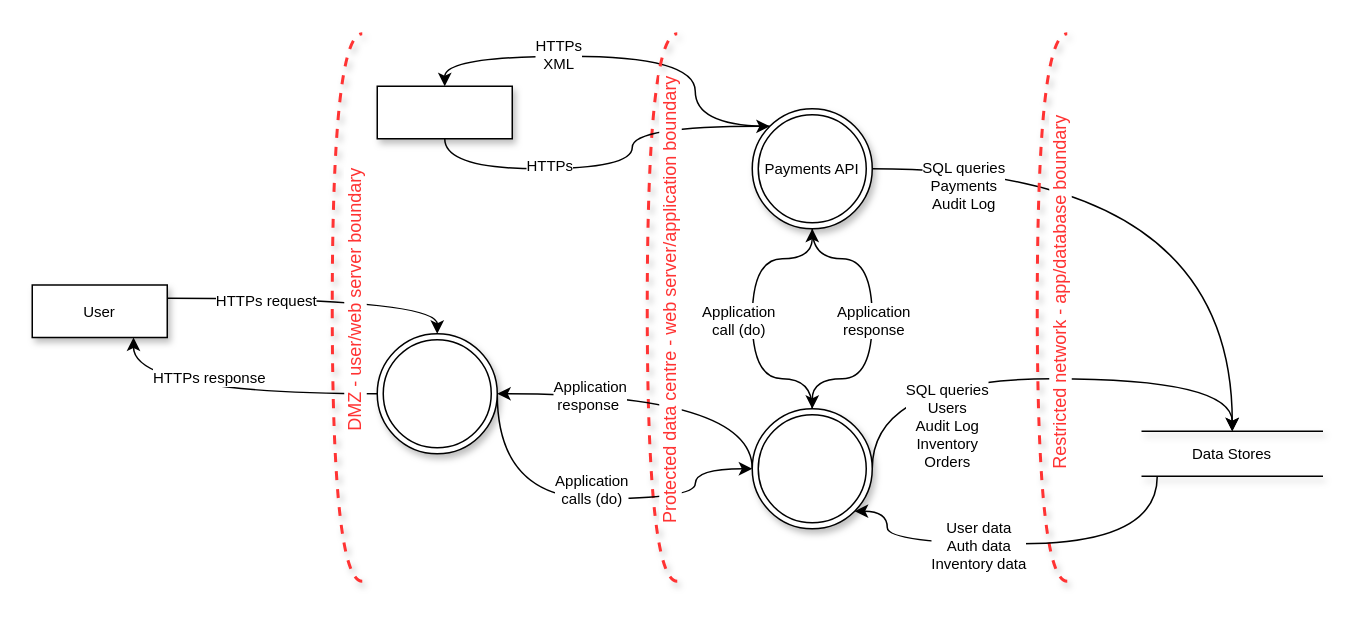
The diagram is 1358 pixels wide and 618 high, and some of its shapes have lost their labels. Each missing label, with the centre of its shape:
"Application Processor" belongs at point 813,470.
"Payment Partner" belongs at point 445,114.
"Web Server" belongs at point 438,395.
